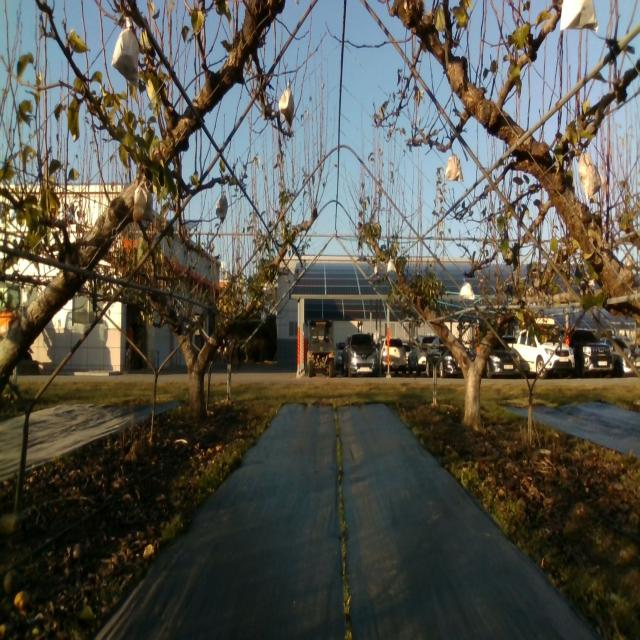pearbags: (112, 21, 139, 88), (577, 149, 606, 199), (133, 175, 153, 221), (278, 78, 295, 128), (444, 149, 464, 182), (216, 191, 228, 222), (459, 278, 474, 302)
